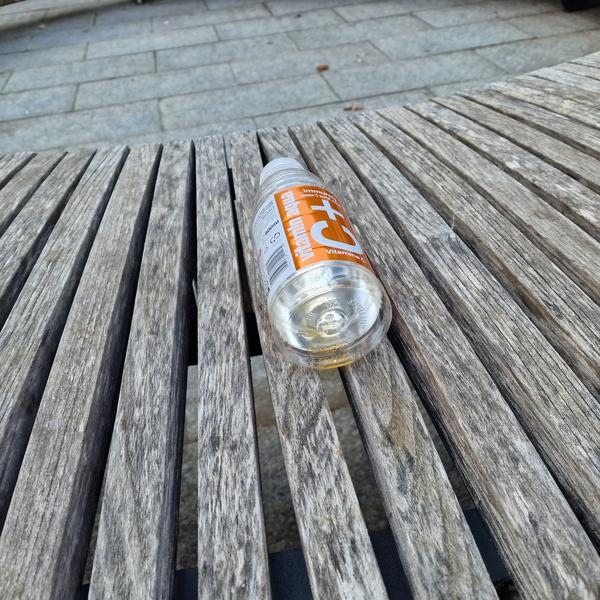plastic_bottle: (225, 138, 406, 385)
